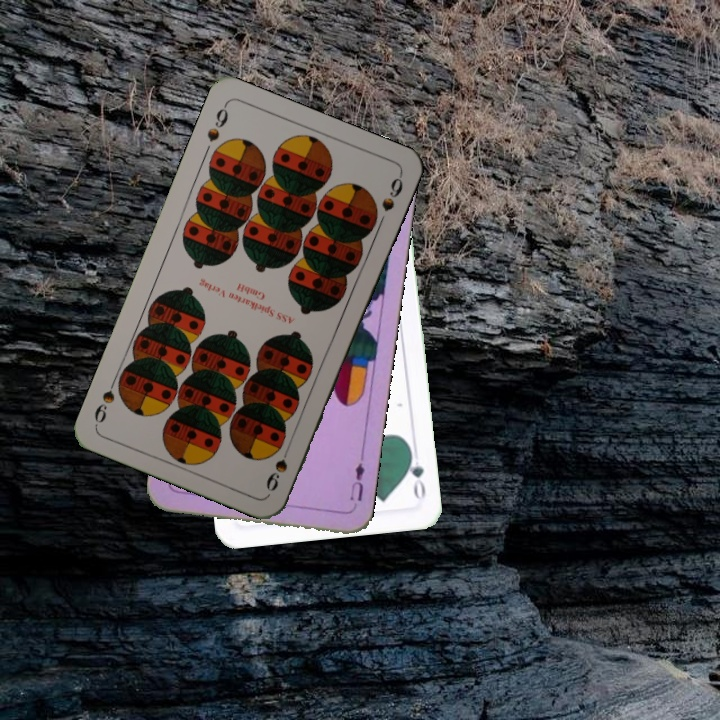EU: (346, 459, 367, 511)
GO: (402, 445, 428, 503)
S9: (262, 439, 294, 494), (202, 100, 231, 145)
